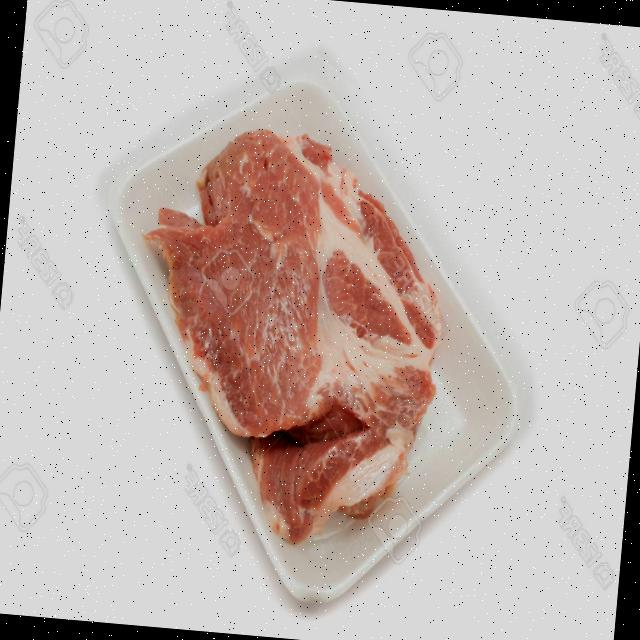meat: (98, 54, 490, 584)
